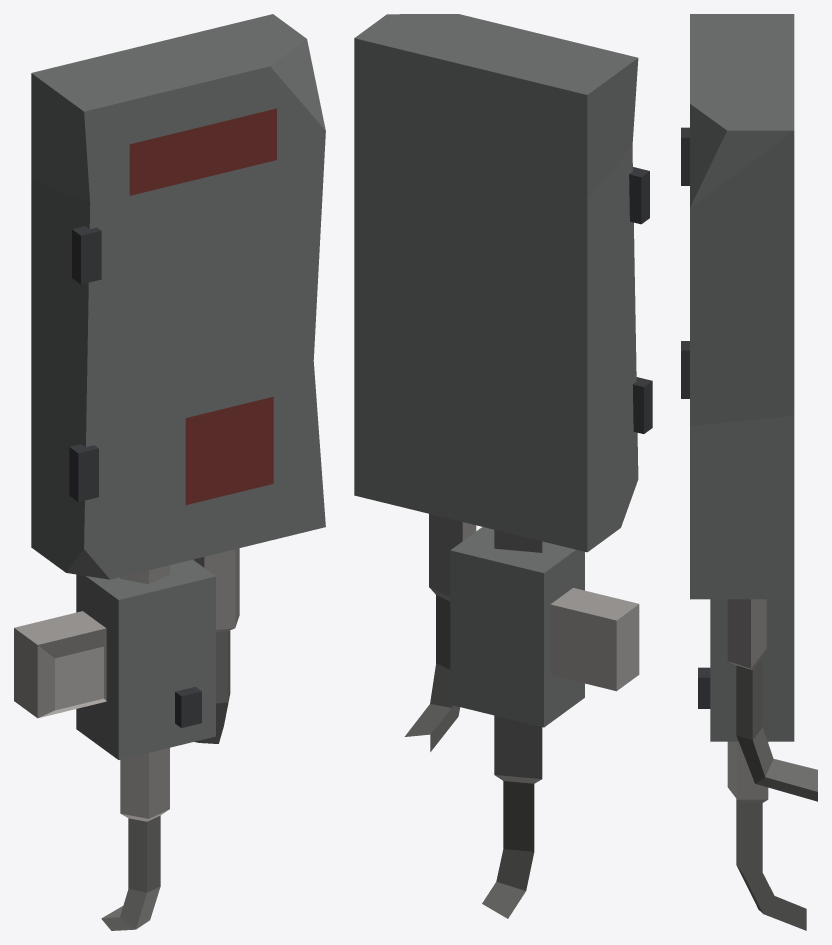
File: SM_Prop_PowerBox_02.glb
3 renders of one model, left to right at view 1: azimuth 30°, elevation 25°; view 2: azimuth 150°, elevation 25°; view 3: azimuth 270°, elevation 25°, orthographic. The views are drawn at different scales.
Visible parts, largest first — view 1: SM_Prop_PowerBox_02; view 2: SM_Prop_PowerBox_02; view 3: SM_Prop_PowerBox_02.
Boxes of the visible parts, x1,y1,x2,y2 form: SM_Prop_PowerBox_02: [14, 14, 325, 930]; SM_Prop_PowerBox_02: [354, 14, 652, 918]; SM_Prop_PowerBox_02: [681, 14, 817, 930].
Bounding box in the file's own units: 0.4206 × 1.34 × 0.1901.
1 material, 1 textured.
